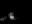person: (8, 12, 16, 20), (0, 17, 5, 22)
